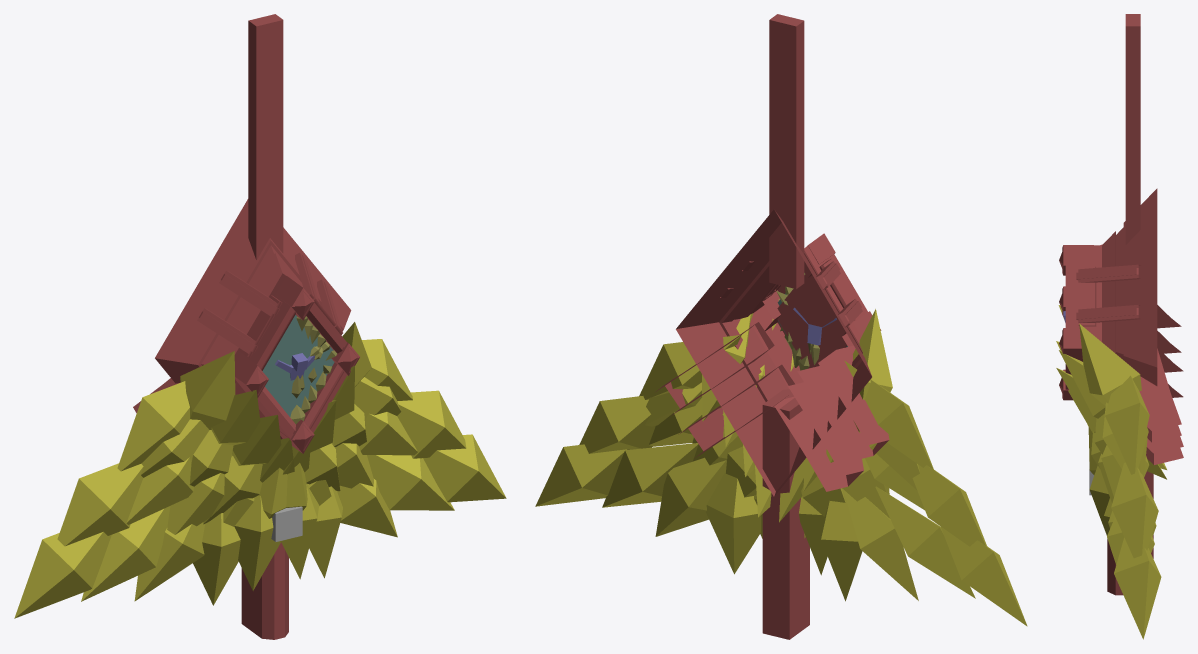
The model's file is Boss Block out V2.fbx.
The picture shows the model from 3 angles, left to right: view 1: azimuth 30°, elevation 25°; view 2: azimuth 150°, elevation 25°; view 3: azimuth 270°, elevation 25°; orthographic projection. The views are drawn at different scales.
Visible parts, largest first — view 1: pCube2, pCube13, pCube102 (×2), pCube101 (×2), pCube97 (×2), pCube100 (×2), pCube96 (×2), pCube110 (×2), pCube98 (×2), pCube111, pCube99 (×2), pCube93 (×2) (+13 smaller); view 2: pCube2, pCube13, pCube103, pCube97 (×2), pCube102 (×2), pCube96 (×2), pCube101 (×2), pCube110 (×2), pCube108, pCube107, pCube100 (×2), pCube98 (×2) (+8 smaller); view 3: pCube2, pCube13, pCube101, pCube100, pCube108, pCube102, pCube111, pCube93, pCube107, pCube8, pCube92, pCube7 (+10 smaller).
Part boxes in pixels (x1,y1,x2,y2): pCube2: (155,199,351,439); pCube13: (248,14,283,260); pCube102 (×2): (14,434,506,618); pCube101 (×2): (57,390,466,546); pCube97 (×2): (81,455,454,601); pCube100 (×2): (117,339,412,471); pCube96 (×2): (134,479,397,601); pCube110 (×2): (193,486,342,605); pCube98 (×2): (126,412,417,524); pCube111: (197,252,342,357); pCube99 (×2): (234,484,319,590); pCube93 (×2): (180,322,371,429); pCube2: (676,209,871,496); pCube13: (769,14,804,289); pCube103: (762,389,809,639); pCube97 (×2): (602,443,975,598); pCube102 (×2): (535,444,1027,626); pCube96 (×2): (655,457,918,600); pCube101 (×2): (579,396,987,546); pCube110 (×2): (706,471,862,601); pCube108: (656,322,889,460); pCube107: (678,364,863,491); pCube100 (×2): (639,335,933,469); pCube98 (×2): (649,397,924,510); pCube2: (1065,188,1157,389); pCube13: (1125,14,1140,244); pCube101: (1111,462,1158,558); pCube100: (1105,375,1149,474); pCube108: (1139,305,1181,442); pCube102: (1114,537,1161,639); pCube111: (1076,244,1140,326); pCube93: (1079,323,1141,405); pCube107: (1146,347,1183,464); pCube8: (1059,245,1093,400); pCube92: (1059,350,1105,418); pCube7: (1059,286,1093,358).
Size of the model in its own units: 1824 by 2153 by 439.
